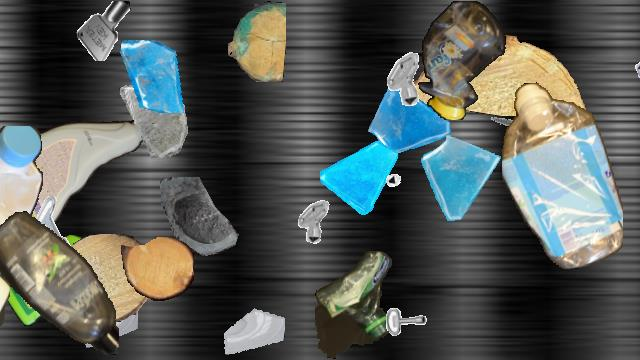glass: (157, 177, 251, 271), (415, 133, 507, 225), (367, 76, 455, 164), (320, 137, 398, 215), (117, 84, 191, 158), (117, 40, 189, 112), (223, 296, 285, 358), (81, 291, 137, 347)
metal: (25, 194, 87, 256), (75, 1, 135, 61), (373, 50, 431, 108), (380, 303, 436, 359), (287, 196, 335, 244), (486, 104, 530, 148), (383, 156, 421, 194), (628, 57, 640, 105)
plastic: (502, 81, 622, 269), (0, 114, 146, 242), (0, 209, 118, 359), (417, 1, 507, 119), (0, 234, 108, 326), (0, 126, 46, 332), (315, 249, 393, 359), (0, 219, 10, 359)
wood: (411, 35, 597, 115), (55, 234, 153, 322), (228, 1, 286, 81), (121, 237, 193, 301)
